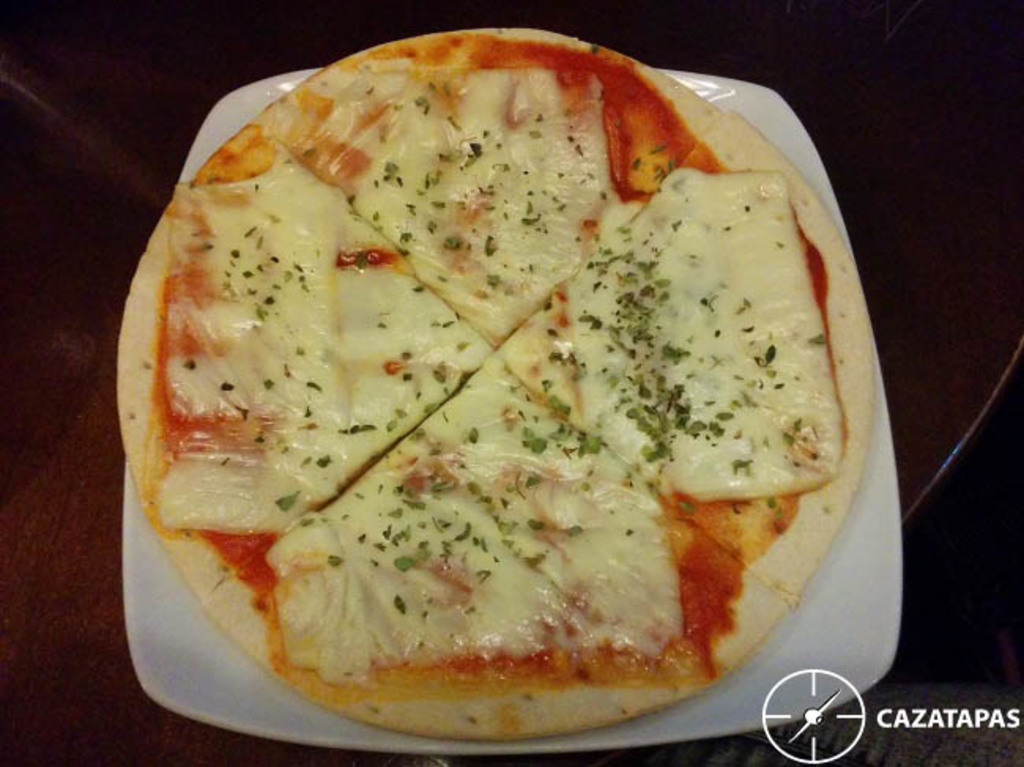Pizza: (115, 25, 875, 738)
